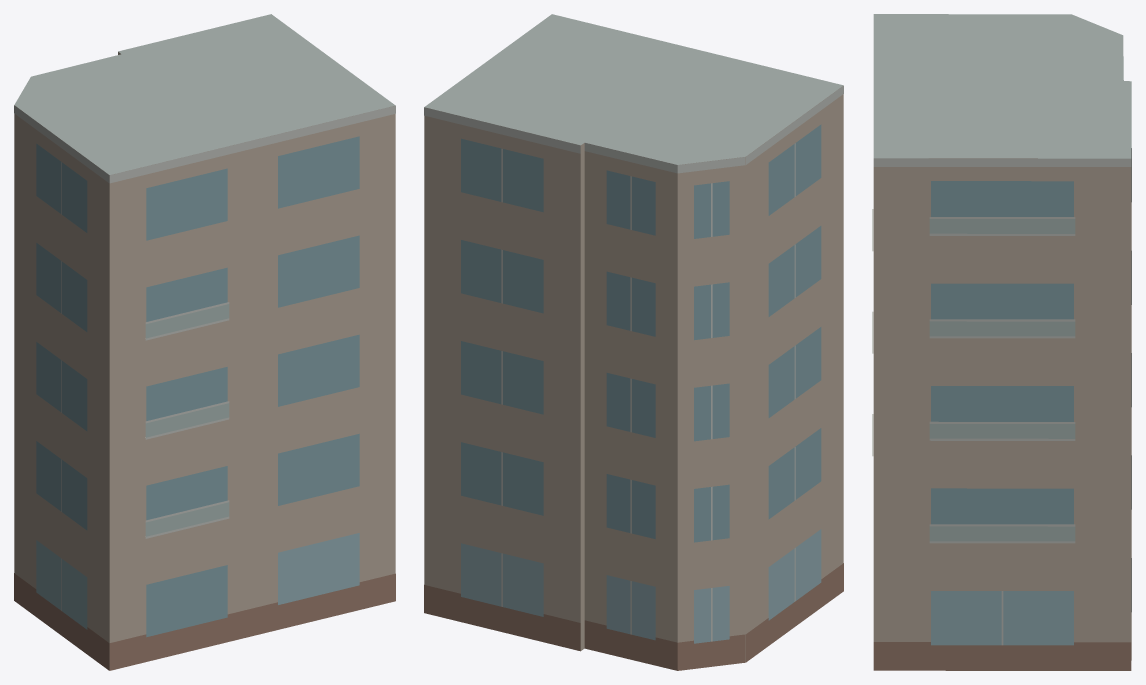
Rendered from survey-upis-32710891.glb.
3 renders of one model, left to right at view 1: azimuth 30°, elevation 25°; view 2: azimuth 150°, elevation 25°; view 3: azimuth 270°, elevation 25°, orthographic. The views are drawn at different scales.
Visible parts, largest first — view 1: survey-upis-32710891.tmp; view 2: survey-upis-32710891.tmp; view 3: survey-upis-32710891.tmp.
Part boxes in pixels (x1=…): survey-upis-32710891.tmp: x1=14, y1=14, x2=395, y2=670; survey-upis-32710891.tmp: x1=424, y1=14, x2=843, y2=670; survey-upis-32710891.tmp: x1=872, y1=14, x2=1131, y2=670.
Size of the model in its own units: 8.87 by 14.6 by 6.71.
